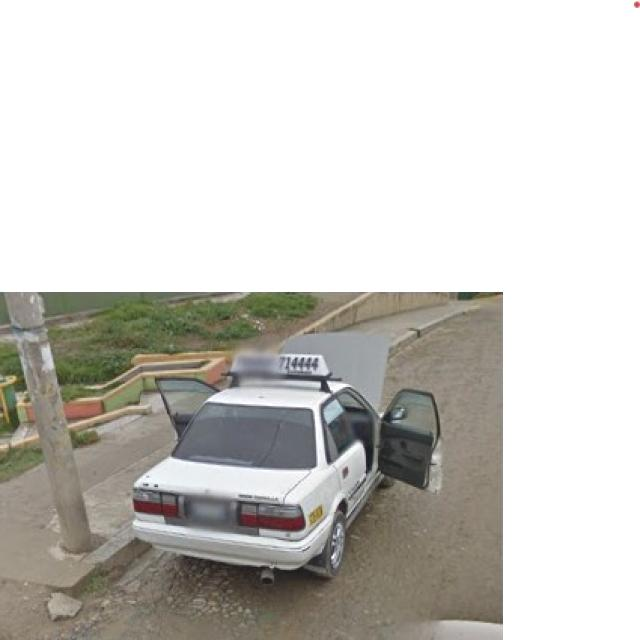car: (136, 341, 454, 603)
